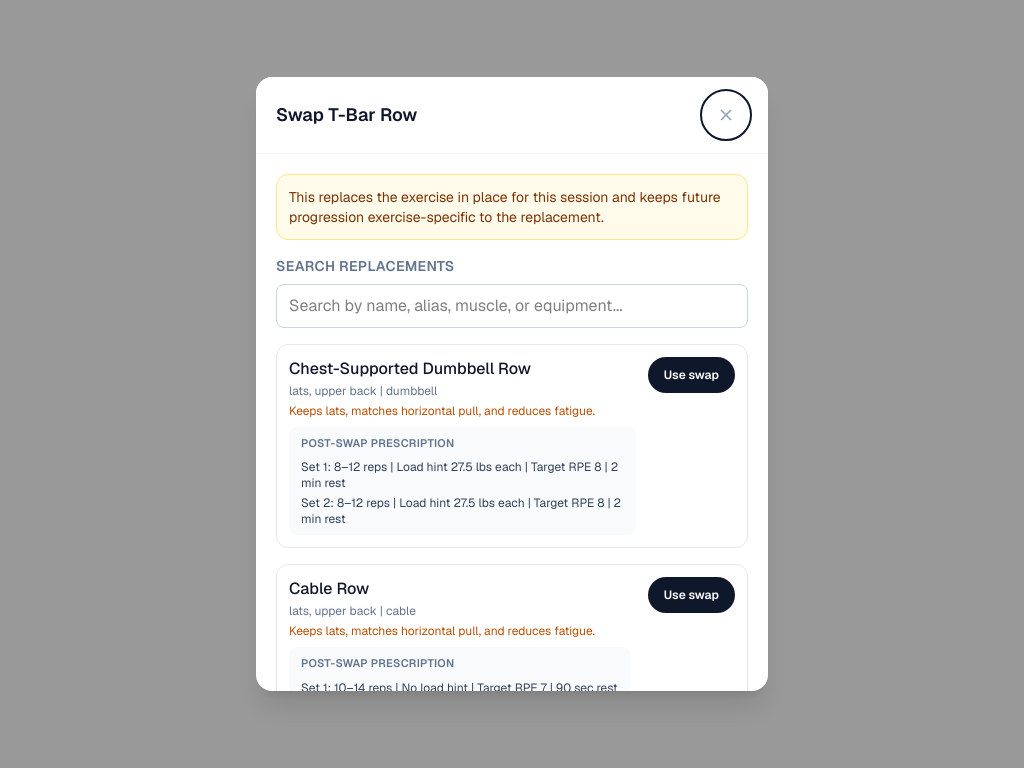
Test: RuntimeExerciseSwapSheet › uses the same server-backed route for typed narrowing and only preview-hydrates visible search results
This screenshot has width=1024, height=768.
Check: the text "Post-swap prescription" is shown 2 times, box [301,436,455,450]; [301,656,455,670]
In the search field with placeholder "Search by name, alias, muscle, or equipment...": x=512, y=306 [276,284,748,328], type "machine"
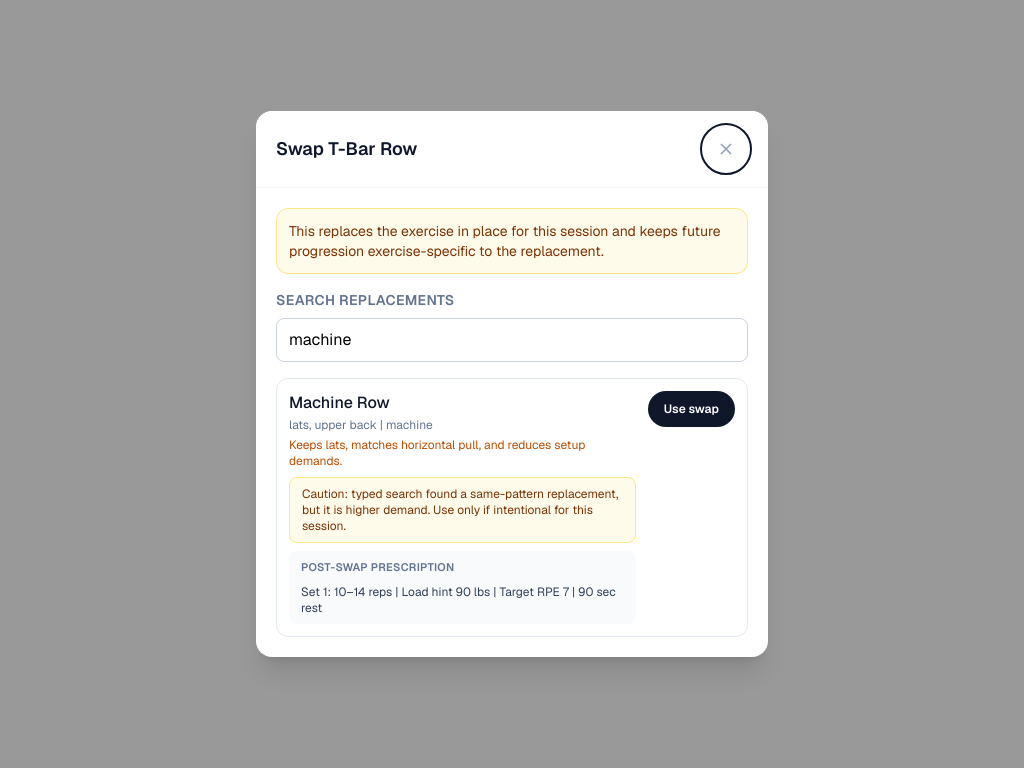
Check: the text "Machine Row" is shown, box [289,392,390,413]
Check: the text "Caution: typed search found a same-pattern replacement, but it is higher demand. Use only if intentional for this sessio" is shown, box [302,486,618,534]
